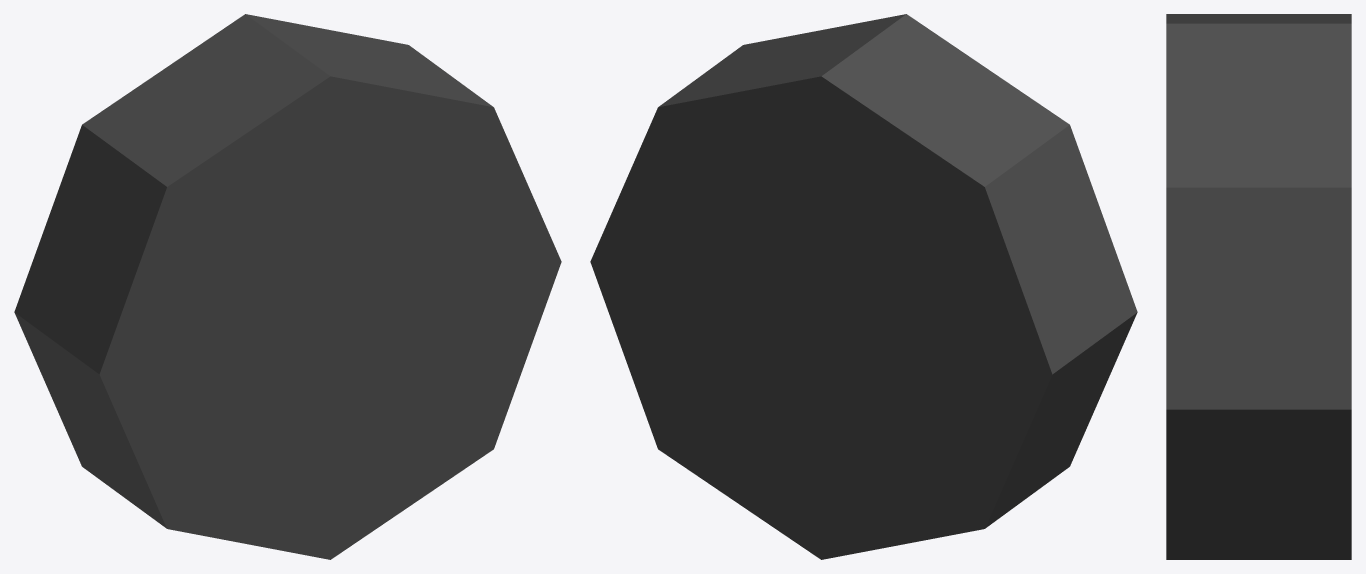
Rendered from ModularSwordKit_Knauf03.fbx.
The picture shows the model from 3 angles, left to right: view 1: azimuth 30°, elevation 25°; view 2: azimuth 150°, elevation 25°; view 3: azimuth 270°, elevation 25°; orthographic projection. The views are drawn at different scales.
Visible parts, largest first — view 1: Knauf03; view 2: Knauf03; view 3: Knauf03.
Boxes of the visible parts, left/top/right/bottom form: Knauf03: left=14, top=14, right=561, bottom=559; Knauf03: left=590, top=14, right=1137, bottom=559; Knauf03: left=1166, top=14, right=1351, bottom=559.
Bounding box in the file's own units: 24.7 × 24.7 × 7.89.
